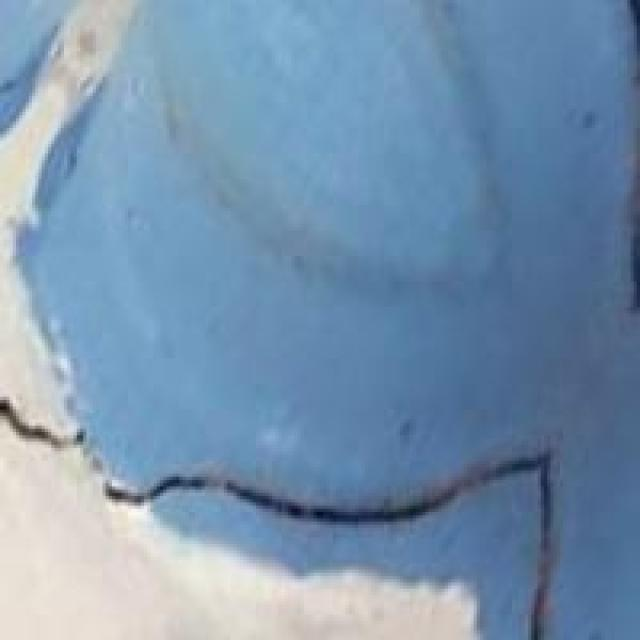crack: (0, 365, 579, 637)
